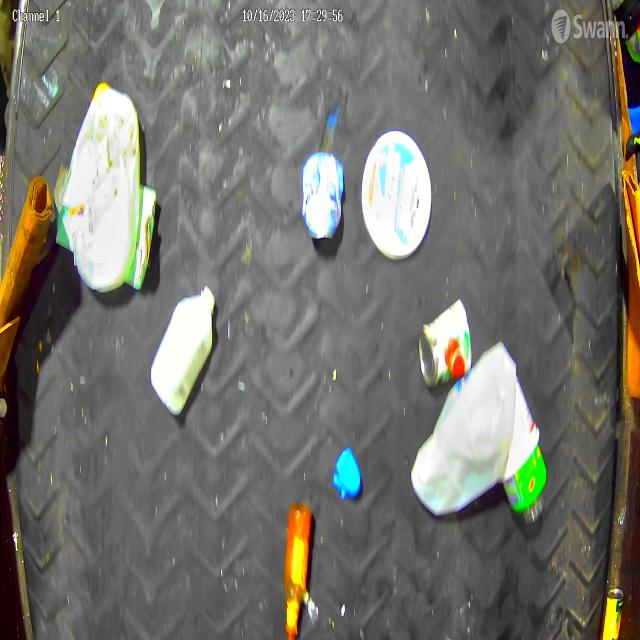can: (419, 292, 474, 390)
milk_jug: (150, 280, 217, 410)
